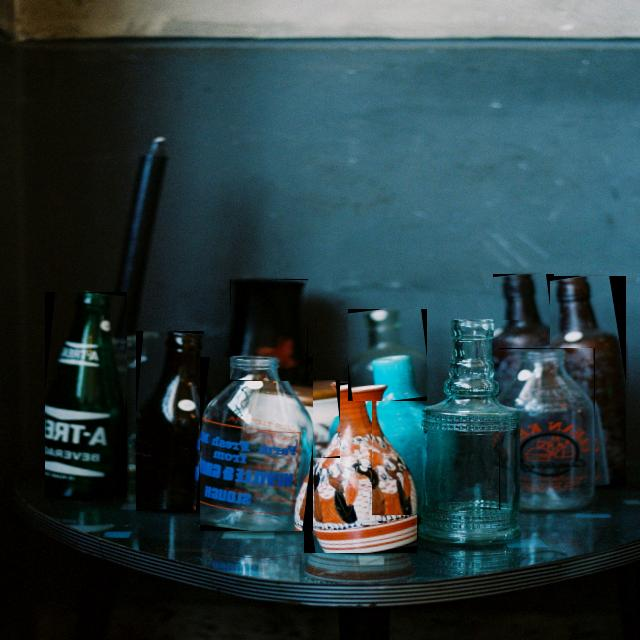Bottle: (418, 320, 517, 544), (199, 357, 311, 531), (304, 384, 416, 553), (44, 292, 126, 498), (550, 277, 624, 486), (498, 349, 594, 510), (136, 332, 202, 511), (371, 357, 424, 509), (229, 279, 307, 381), (347, 309, 426, 401), (492, 275, 552, 390), (287, 381, 339, 457)
